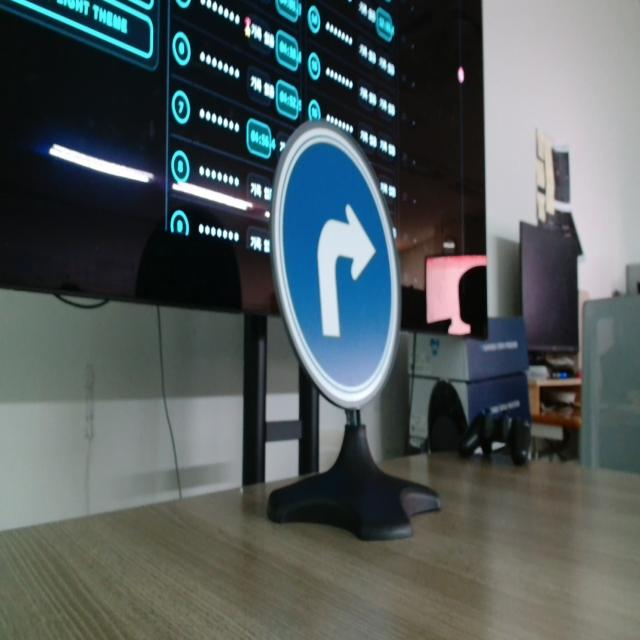right_dierection: (275, 105, 407, 431)
